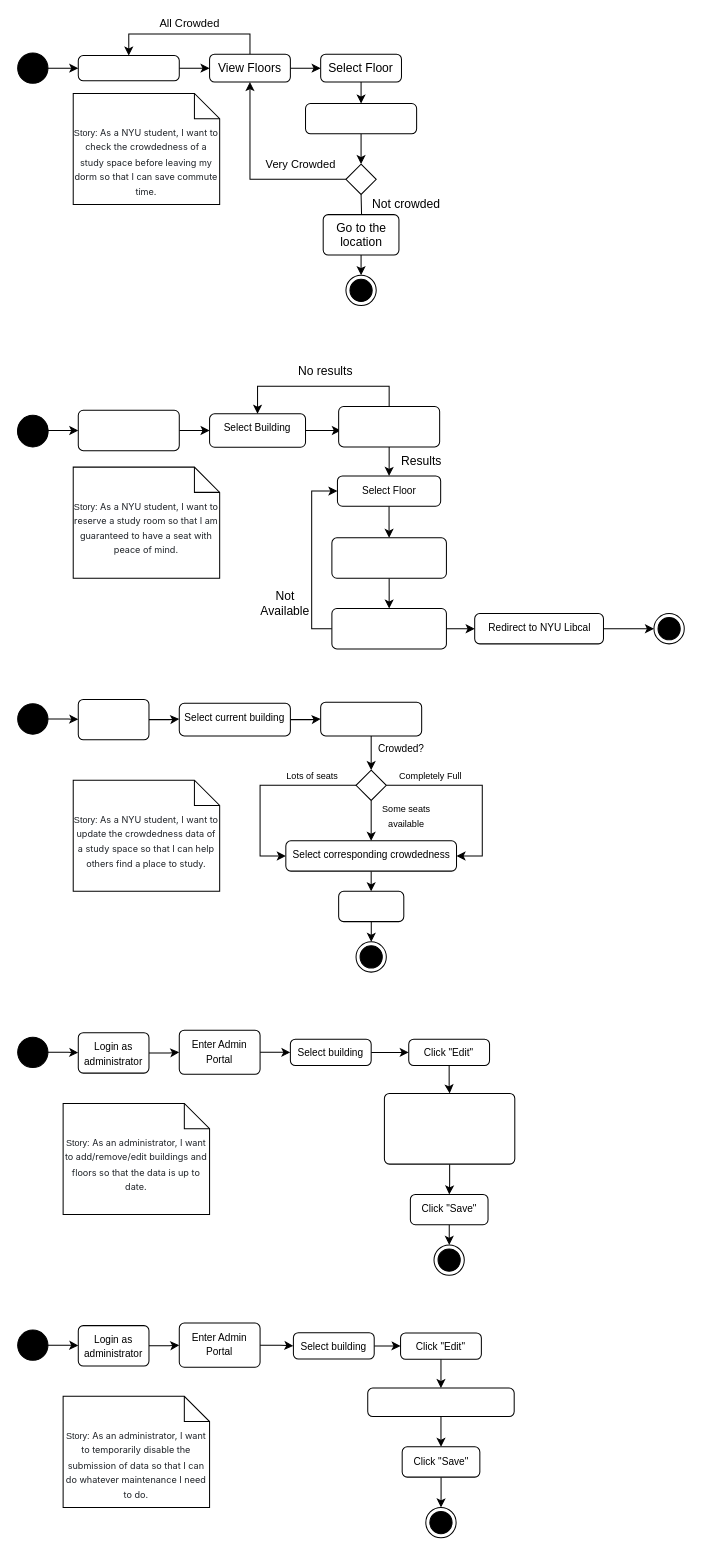
Image size: 702x1556. Some labels were removed from this diagram. Here are the shapes that lost their labels. From the top down, the centre of each, then its label:
point (128, 68): Select Buildings
point (361, 118): View Crowdedness
point (128, 430): Filter Buildings by "Reservable"
point (389, 426): Filter Floors by "Reservable"
point (388, 557): Select Study Spaces with "Reservable" tag
point (388, 628): View Available Date/Time
point (113, 719): Arrives at a study space
point (371, 718): Select current floor
point (371, 906): Hit "Submit"
point (449, 1128): Edit Building Name Edit Building Open Hours Edit Floor Details Edit ...
point (440, 1402): Toggle the "visibility" option
